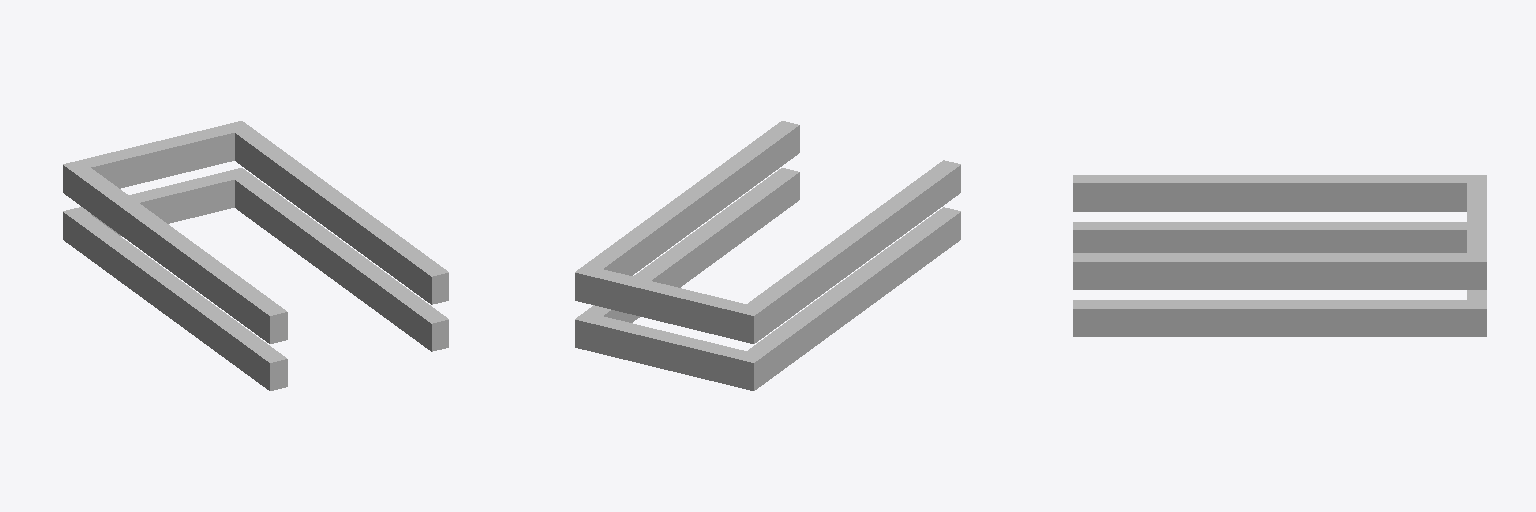
The model's file is single_door_frame.obj.
The picture shows the model from 3 angles: view 1: azimuth 30°, elevation 25°; view 2: azimuth 150°, elevation 25°; view 3: azimuth 270°, elevation 25°; orthographic projection.
Visible parts, largest first — view 1: single_door_frame_single_door_frame..002; view 2: single_door_frame_single_door_frame..002; view 3: single_door_frame_single_door_frame..002.
Boxes of the visible parts, x1=… form: single_door_frame_single_door_frame..002: x1=63, y1=121, x2=448, y2=390; single_door_frame_single_door_frame..002: x1=575, y1=121, x2=960, y2=390; single_door_frame_single_door_frame..002: x1=1073, y1=175, x2=1486, y2=336.
Bounding box in the file's own units: 1 × 0.4 × 2.